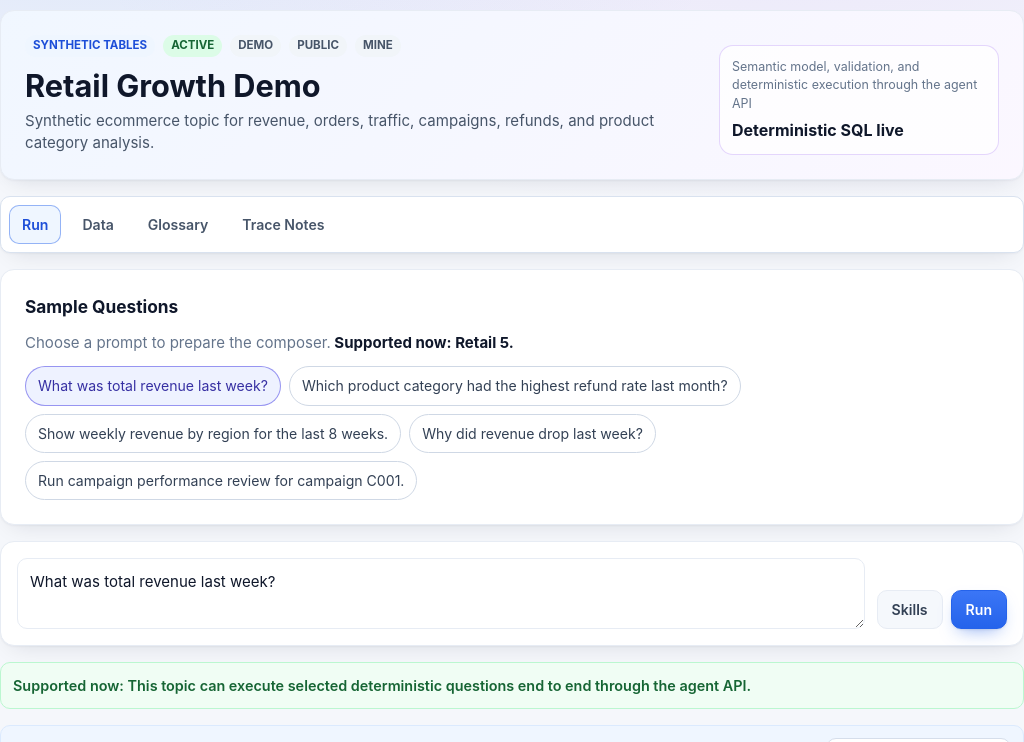
TopicDetailPage › shows guardrail caveats without alleging inconsistency for a consistent needs-review run
The width and height of the screenshot is (1024, 742).
Click the button "Run".
click(979, 609)  # box [951,590,1007,629]
(page scrolled)
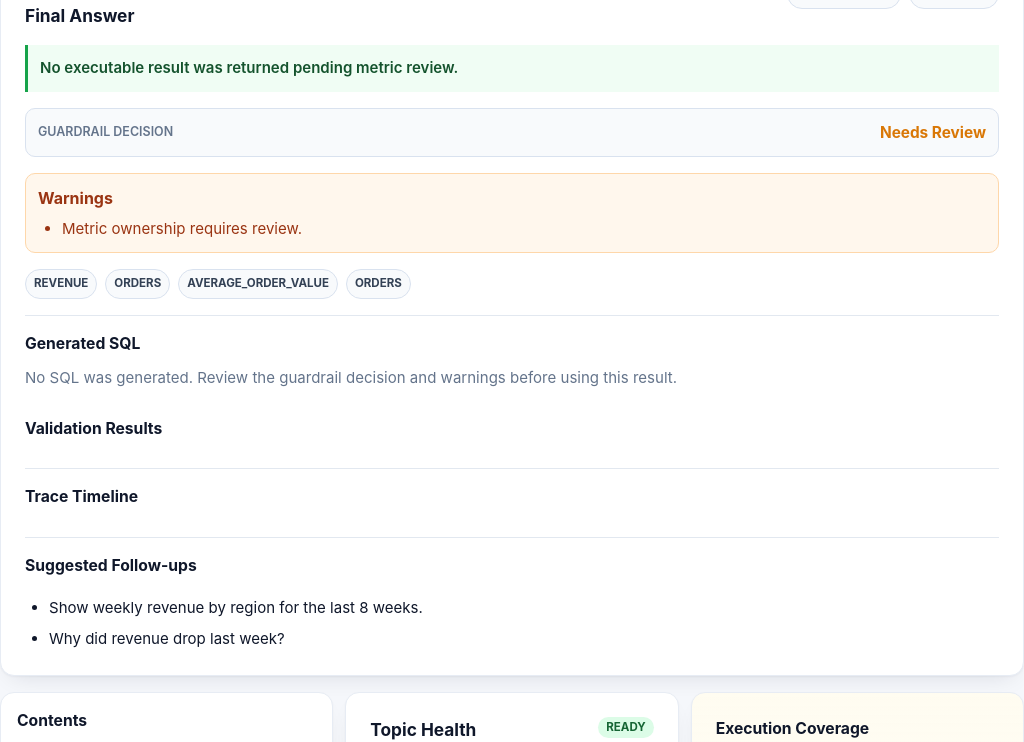
expect the text "No SQL was generated. Review the guardrail decision and warnings before using this result." is shown: met, box [25,368,677,387]
